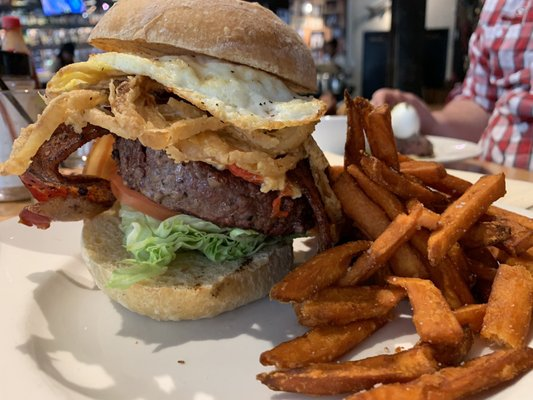soup: (4, 0, 339, 323)
